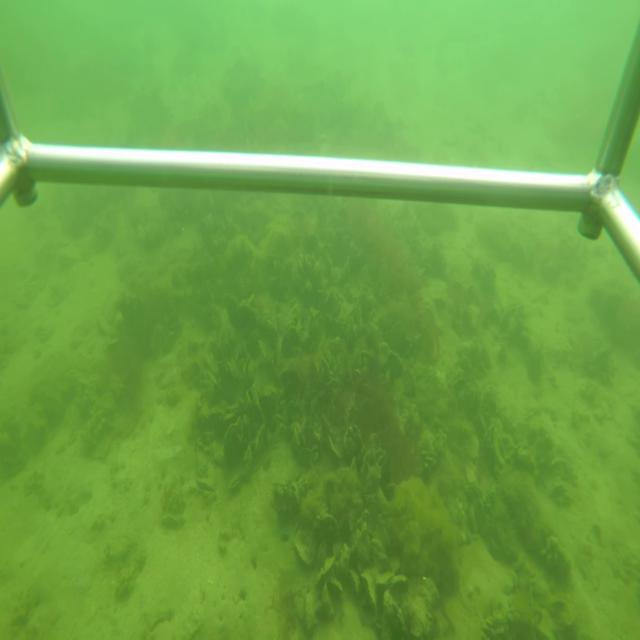Oyster-Closed: (360, 572, 379, 616), (254, 423, 266, 460), (228, 469, 240, 491)
Oyster-Indeterminate: (293, 536, 316, 568), (325, 430, 345, 462), (315, 555, 335, 579)
Oyster-Open: (195, 476, 217, 500)
